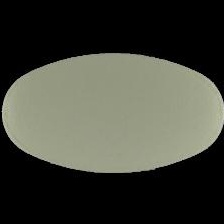61919-040: (0, 0, 224, 224)
